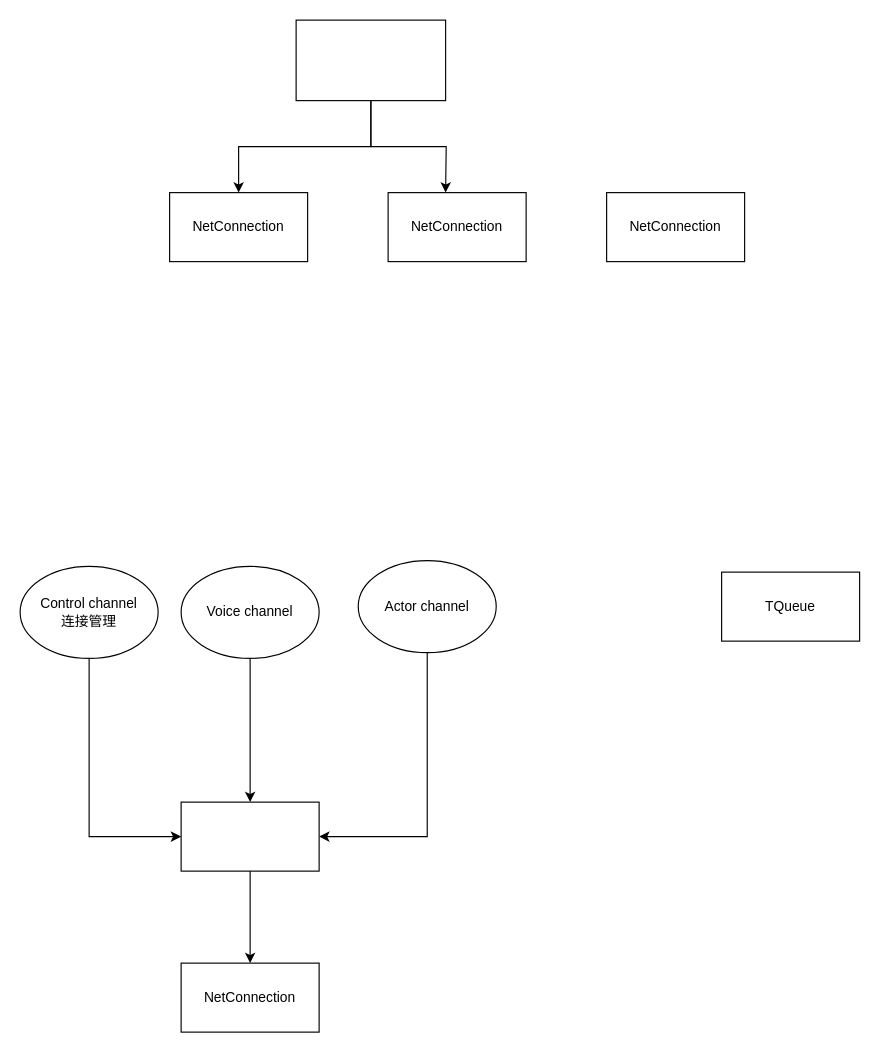
Some shapes in this 880 by 1052 pixel diagram are drawn without their labels. The centre of each missing label's shape, as x and y in pixels:
"Channel SendMsg" goes at pixel 249 836.
"NetDriver" goes at pixel 370 60.
